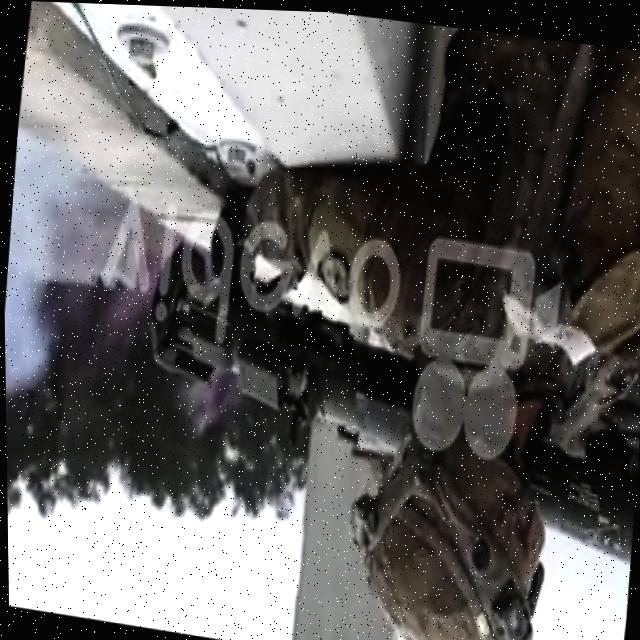rocket: (126, 233, 640, 553)
